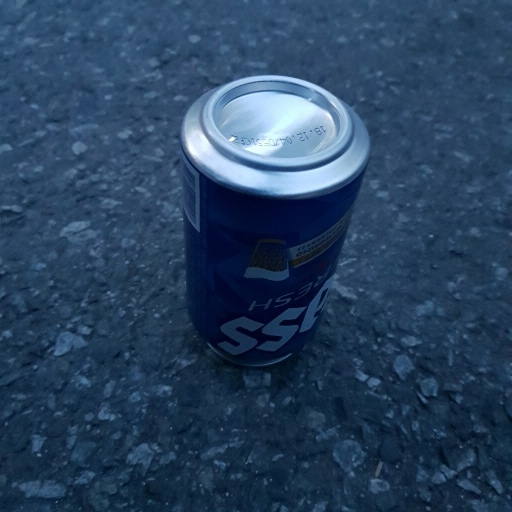Metal_0: (175, 71, 371, 368)
